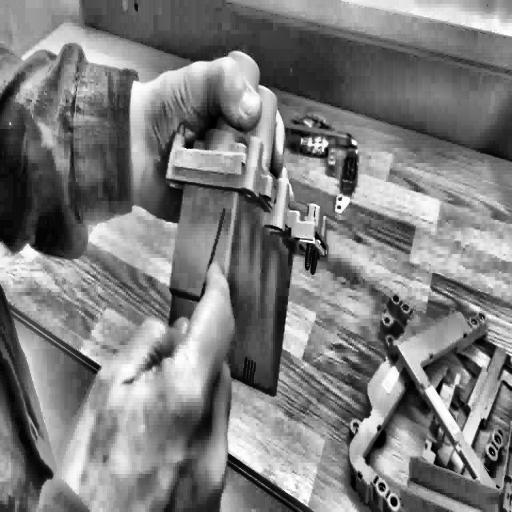connector: (156, 49, 330, 405)
